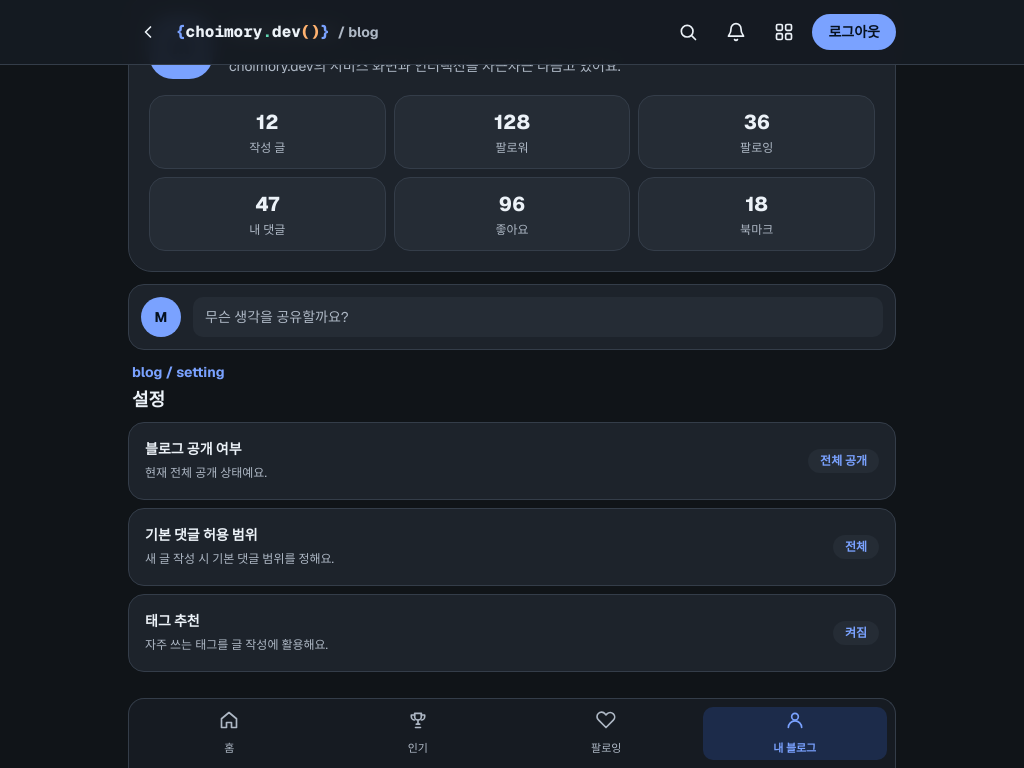
Test: BlogMeSettingsView › 설정 카드를 누르면 해당 설정 변경 모달이 열린다
The image size is (1024, 768).
(page scrolled)
태그 추천 설정 카드를 눌러 설정 변경 모달을 연다
Click the button "태그 추천 자주 쓰는 태그를 글 작성에 활용해요. 켜짐". click: click(172, 621)
box: [128,594,896,672]
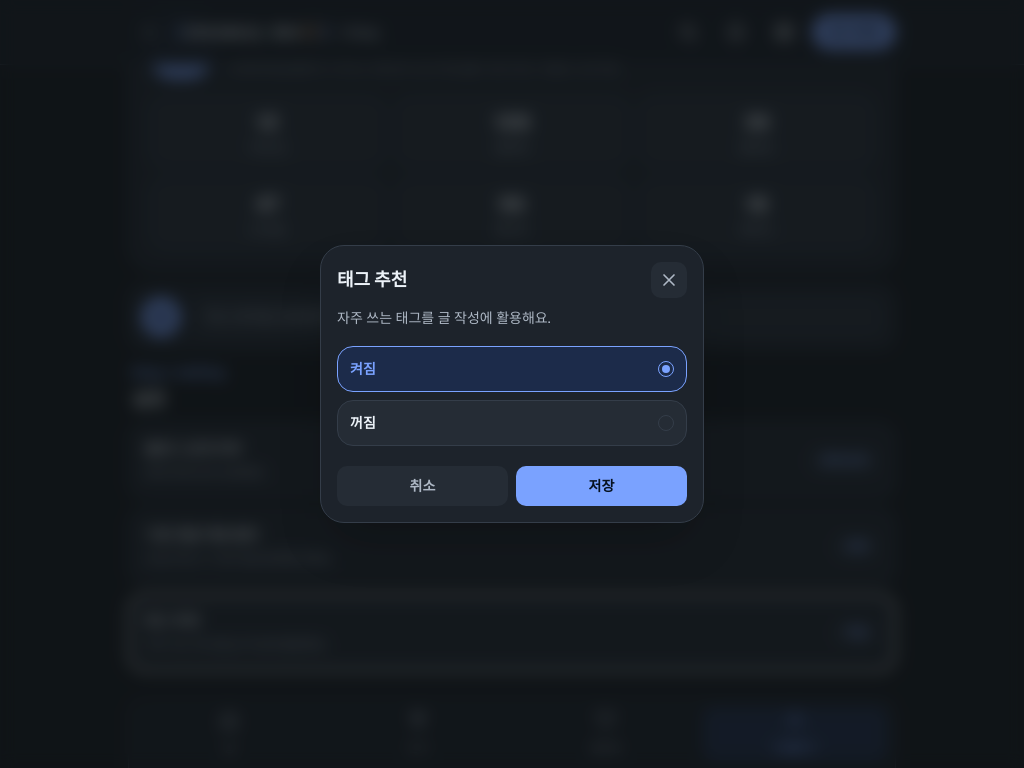
Check: the button "꺼짐" is shown, box [337,400,687,446]
